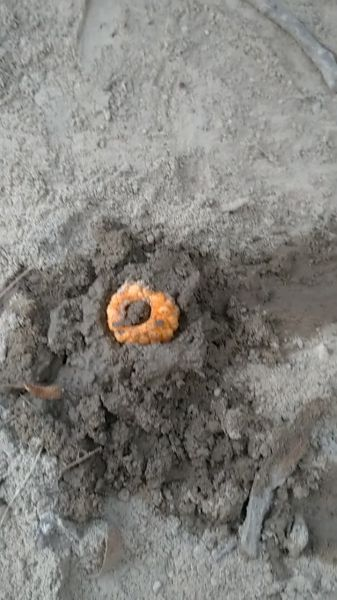eggs: (101, 279, 185, 350)
